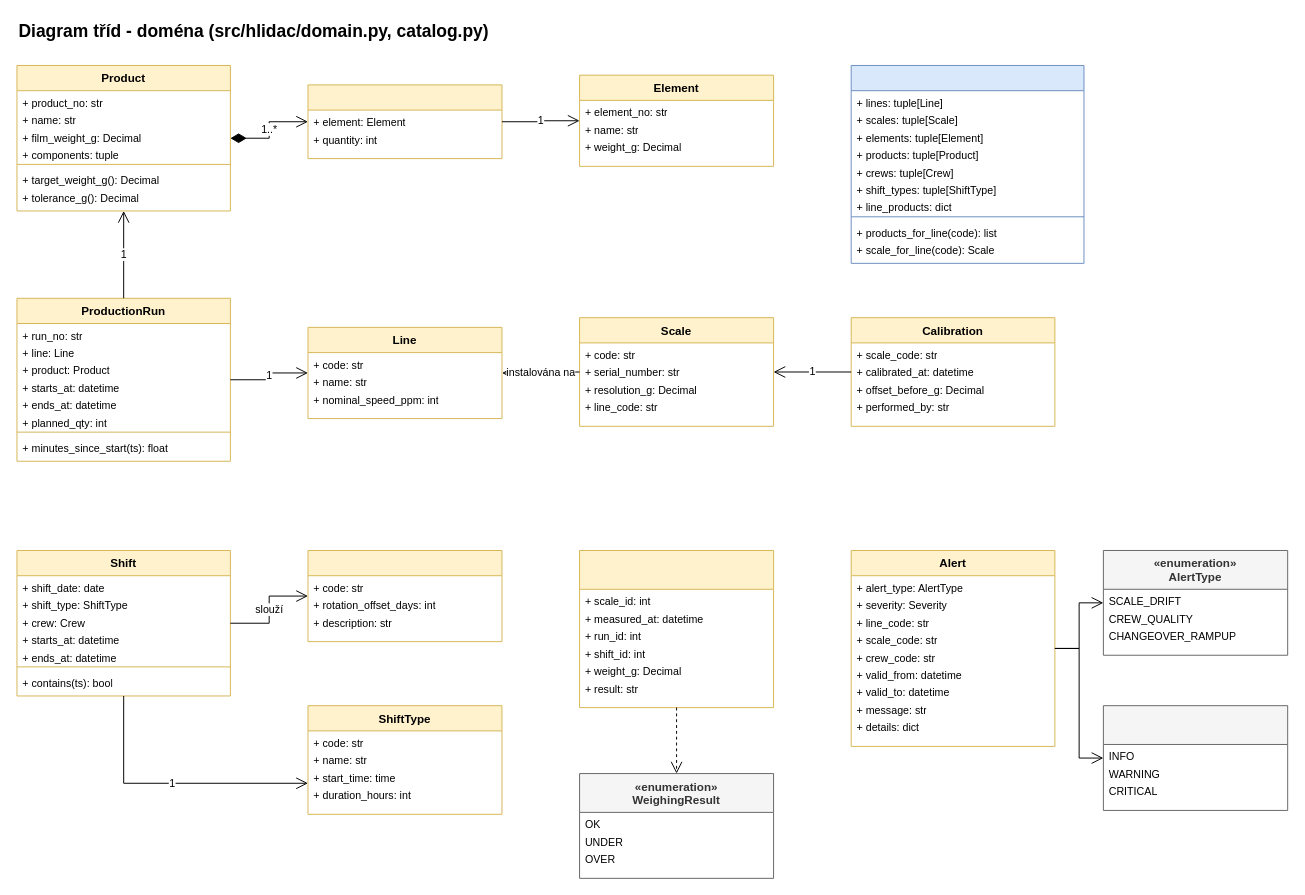
The diagram is 1305 pixels wide and 895 high, and some of its shapes have lost their labels. Here are the shapes that lost their labels. From the top down, the box of each, then its label:
(307, 84, 502, 159): ProductComponent
(850, 65, 1084, 263): MasterData
(307, 550, 502, 642): Crew
(579, 550, 774, 708): «NamedTuple» WeighingRow
(1102, 705, 1288, 810): «enumeration» Severity
